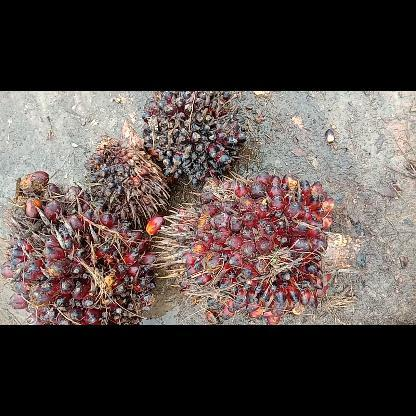Kurang masak: (0, 171, 157, 325)
TBS abnormal: (142, 90, 248, 186), (85, 119, 169, 228)
TBS masak: (154, 172, 361, 324)
